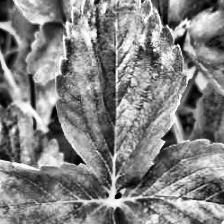Powdery Mildew Leaf: (54, 0, 190, 197), (110, 139, 224, 224), (0, 158, 132, 224)
